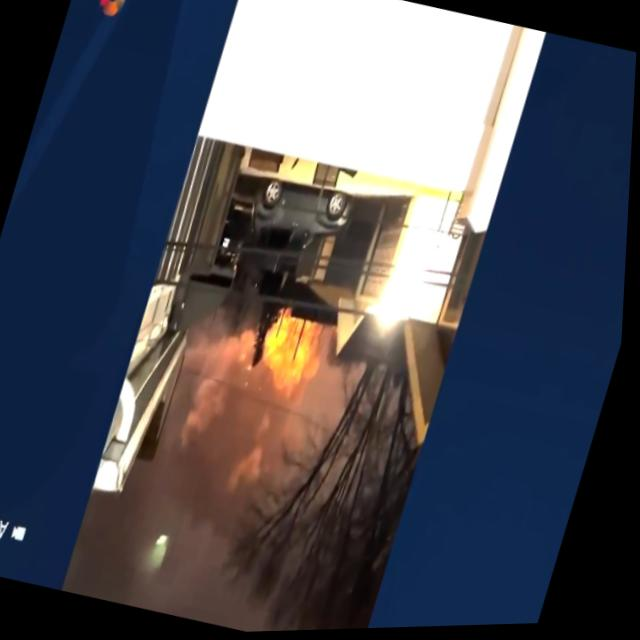Fire: (252, 309, 334, 405), (96, 0, 134, 20)
